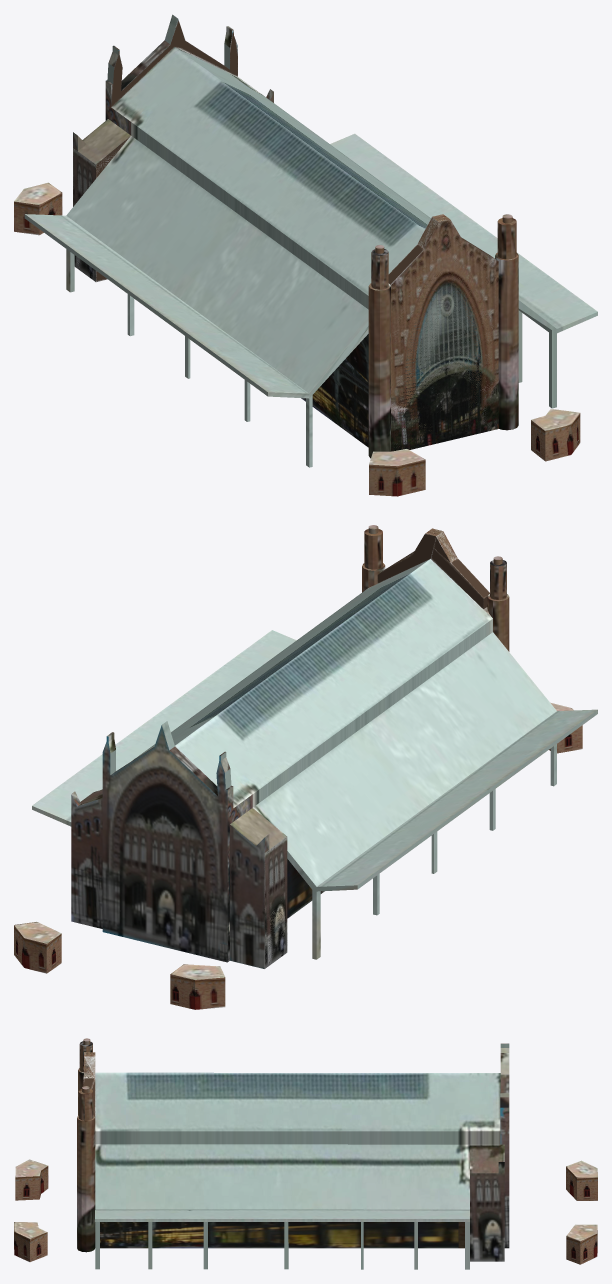
The model's file is PIIE_AR_MO005_COLON.fbx.
3 renders of one model, top to bottom at view 1: azimuth 30°, elevation 25°; view 2: azimuth 150°, elevation 25°; view 3: azimuth 270°, elevation 25°, orthographic. The views are drawn at different scales.
Parts seen in each view (by area): view 1: colon_full; view 2: colon_full; view 3: colon_full.
Part boxes in pixels (x1,y1,x2,y2): colon_full: (14,14,597,496); colon_full: (14,525,597,1009); colon_full: (14,1038,597,1269).
Size of the model in its own units: 25.98 by 16.87 by 51.64.
Materials: 1 (1 with a texture image).
